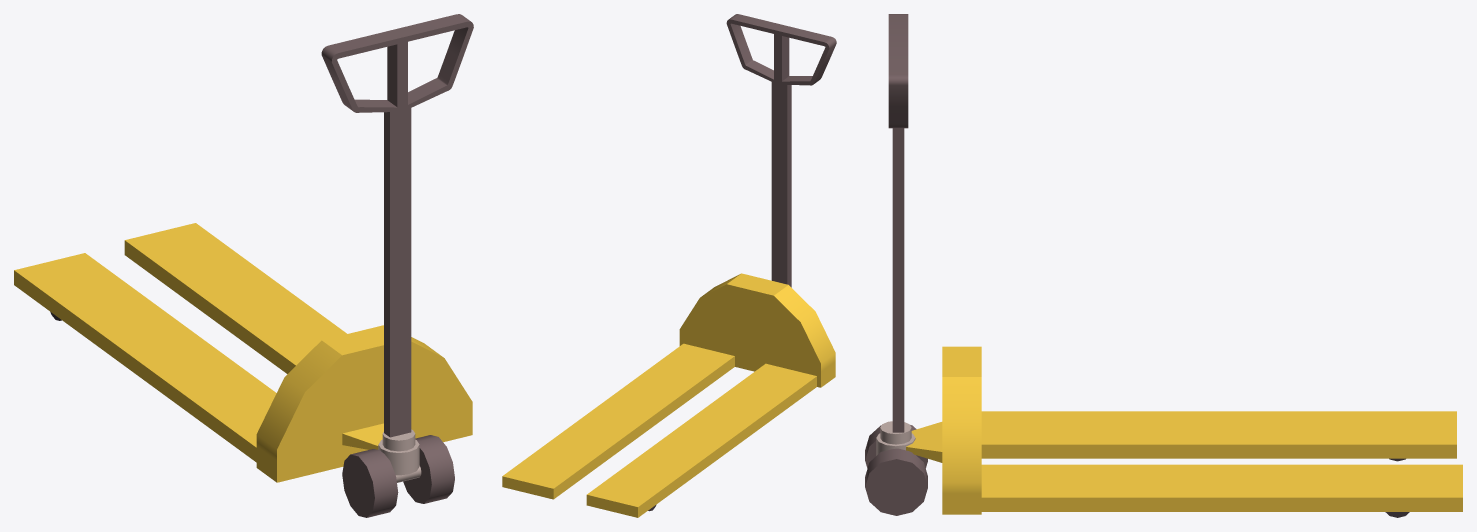
The model's file is Hand_Pallet_Truck.fbx.
3 views of the same model, side by side, from view 1: azimuth 30°, elevation 25°; view 2: azimuth 150°, elevation 25°; view 3: azimuth 270°, elevation 25° (orthographic). The views are drawn at different scales.
Parts seen in each view (by area): view 1: Hand_Pallet_Truck; view 2: Hand_Pallet_Truck; view 3: Hand_Pallet_Truck.
Part boxes in pixels (<box>): Hand_Pallet_Truck: <box>14,14,473,517</box>; Hand_Pallet_Truck: <box>502,14,836,517</box>; Hand_Pallet_Truck: <box>865,14,1462,517</box>.
Bounding box in the file's own units: 55 × 127 × 152.
